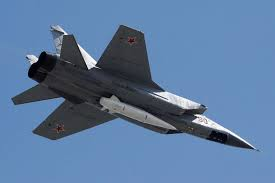fighter: (10, 23, 259, 153)
